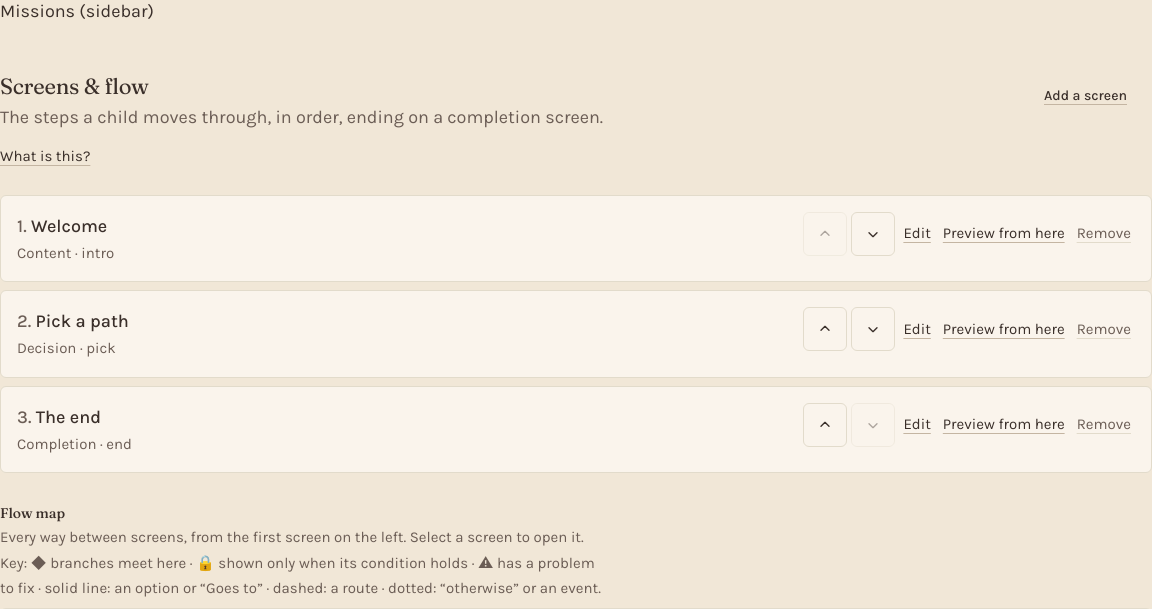
Test case: unsaved changes are never lost silently (D-118) › closing an editor with unsaved changes asks; closing an untouched one does not
Click the button "Edit" in the row of "intro" at [917, 234], box x1=899 y1=212 x2=935 y2=256
(page scrolled)
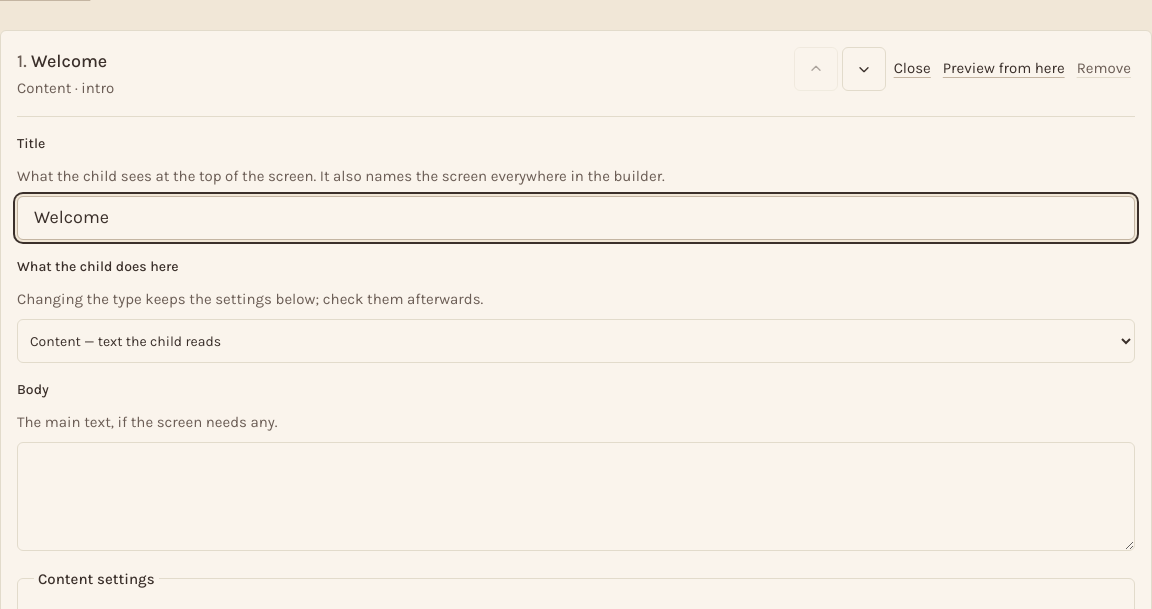
Click the button with aria-label "Close Welcome" at [912, 69], box x1=890 y1=47 x2=935 y2=91
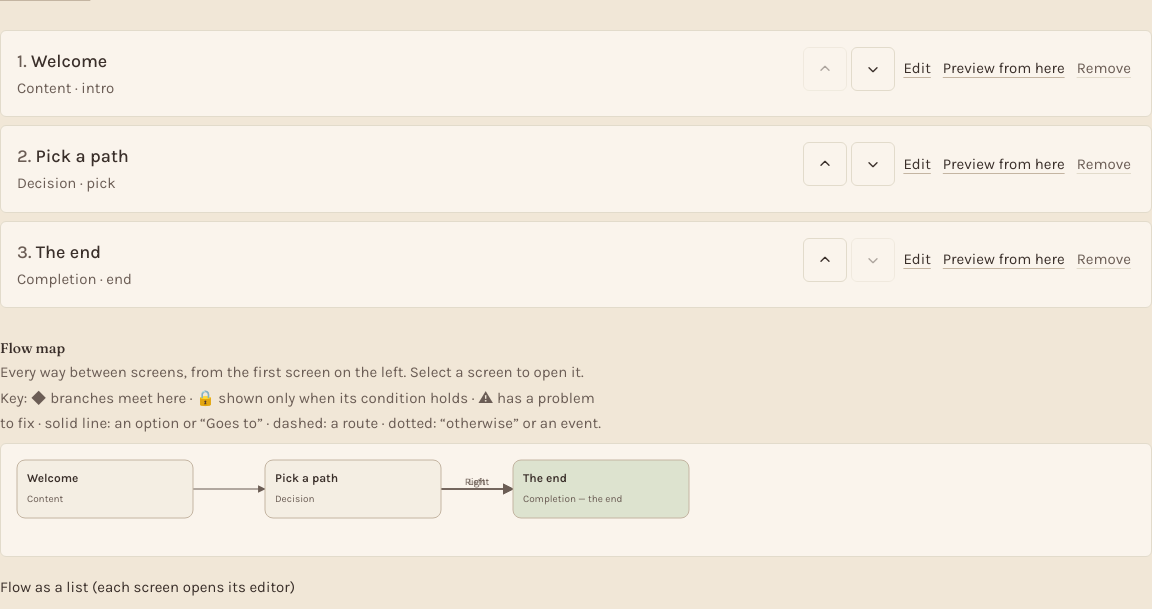
Expected: the dialog "Discard unsaved changes?" is not shown
Expected: the label labelled "Title" is gone
Click the button "Edit" in the row of "intro" at [917, 69], box x1=899 y1=47 x2=935 y2=91
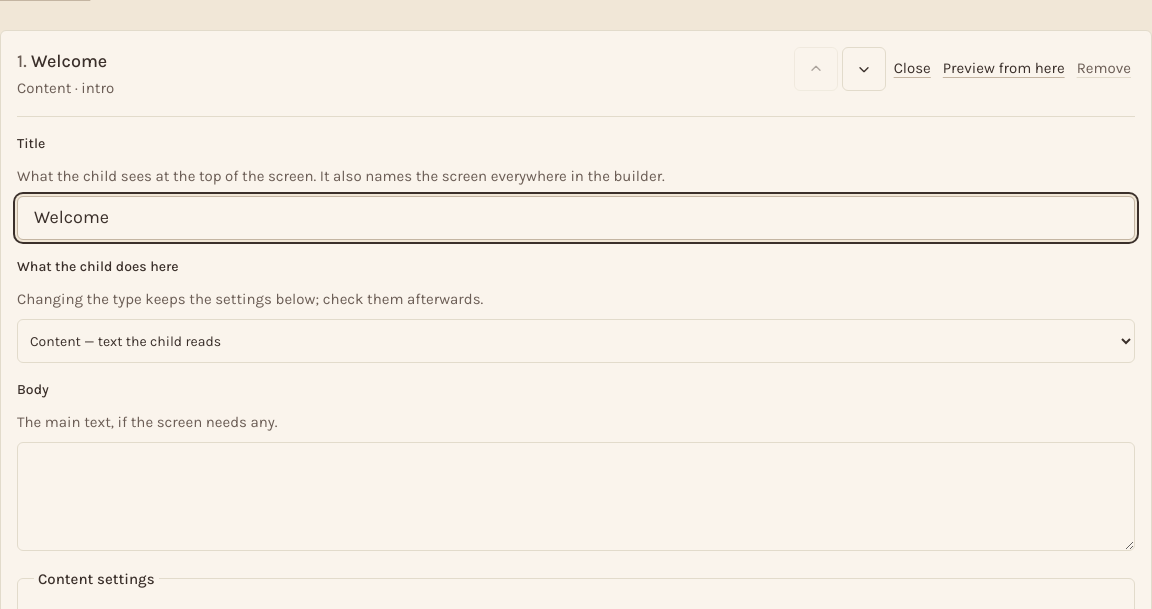
Type "New body" into the text box labelled "Body" at [576, 496], box x1=17 y1=442 x2=1135 y2=551
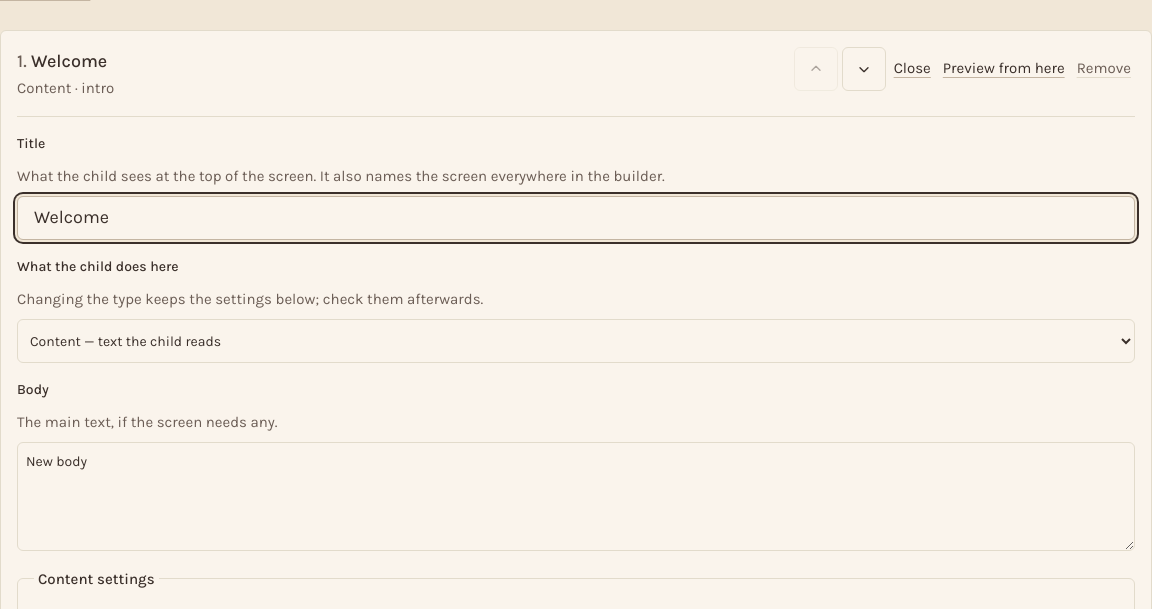
Click the button with aria-label "Close Welcome" at [912, 69], box x1=890 y1=47 x2=935 y2=91
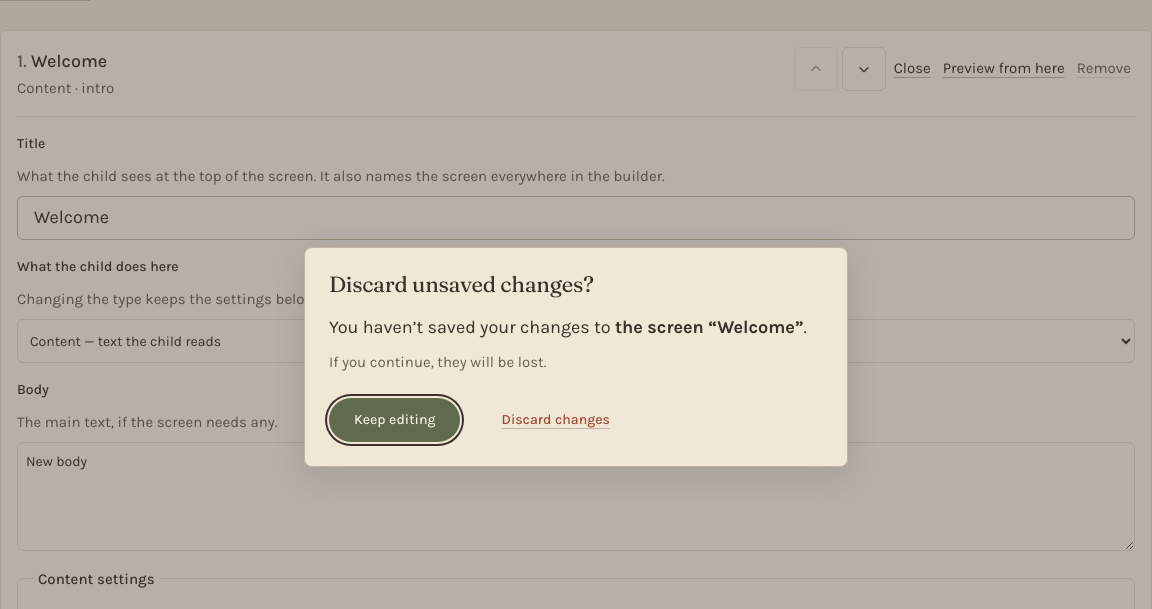
Expected: the dialog "Discard unsaved changes?" is shown, x1=304 y1=247 x2=848 y2=467
